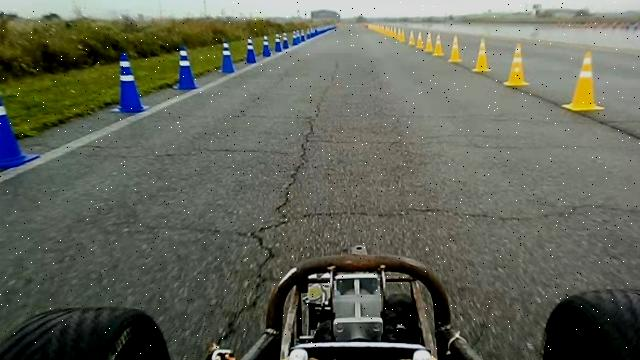blue cone: (0, 90, 39, 170), (110, 52, 147, 113), (172, 45, 199, 90), (218, 38, 235, 74), (245, 36, 257, 64), (262, 34, 272, 57), (274, 33, 282, 52), (282, 32, 289, 49)
yellow cone: (561, 50, 605, 112), (503, 42, 530, 87), (472, 37, 492, 73), (448, 34, 462, 62), (432, 34, 444, 56), (423, 31, 433, 53), (415, 30, 424, 49), (407, 29, 416, 47)
